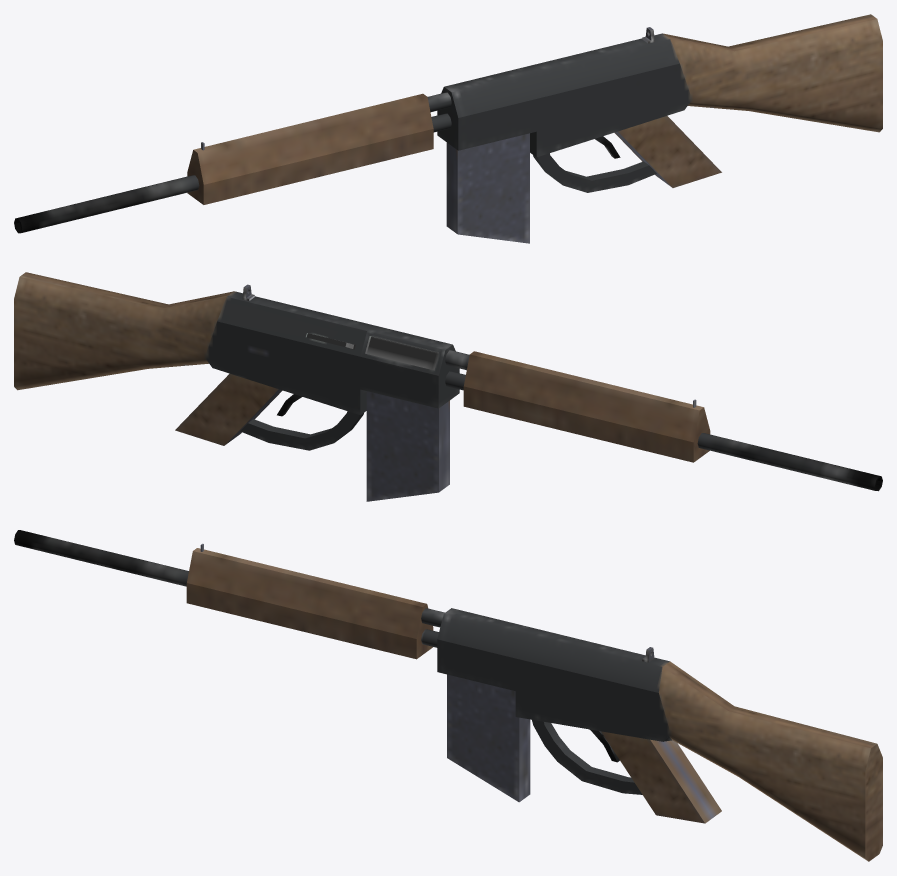
Rendered from FN FAL.glb.
The picture shows the model from 3 angles, top to bottom: view 1: azimuth 30°, elevation 25°; view 2: azimuth 150°, elevation 25°; view 3: azimuth 330°, elevation 25°; orthographic projection.
Visible parts, largest first — view 1: Box001; view 2: Box001; view 3: Box001.
Boxes of the visible parts, x1,y1,x2,y2 form: Box001: (14,14,882,243); Box001: (14,272,882,501); Box001: (14,530,882,861).
Size of the model in its own units: 3.09 by 0.6236 by 0.1476.
Materials: 1 (1 with a texture image).
